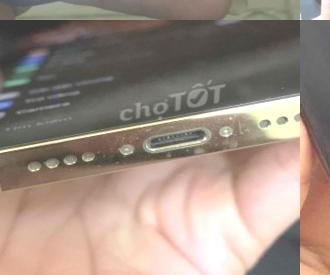scratch: (30, 64, 300, 200)
